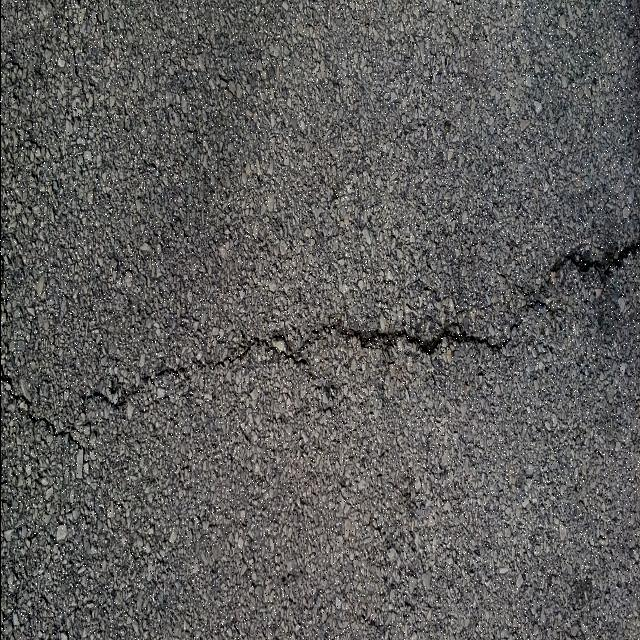Crack: (0, 239, 640, 452)
